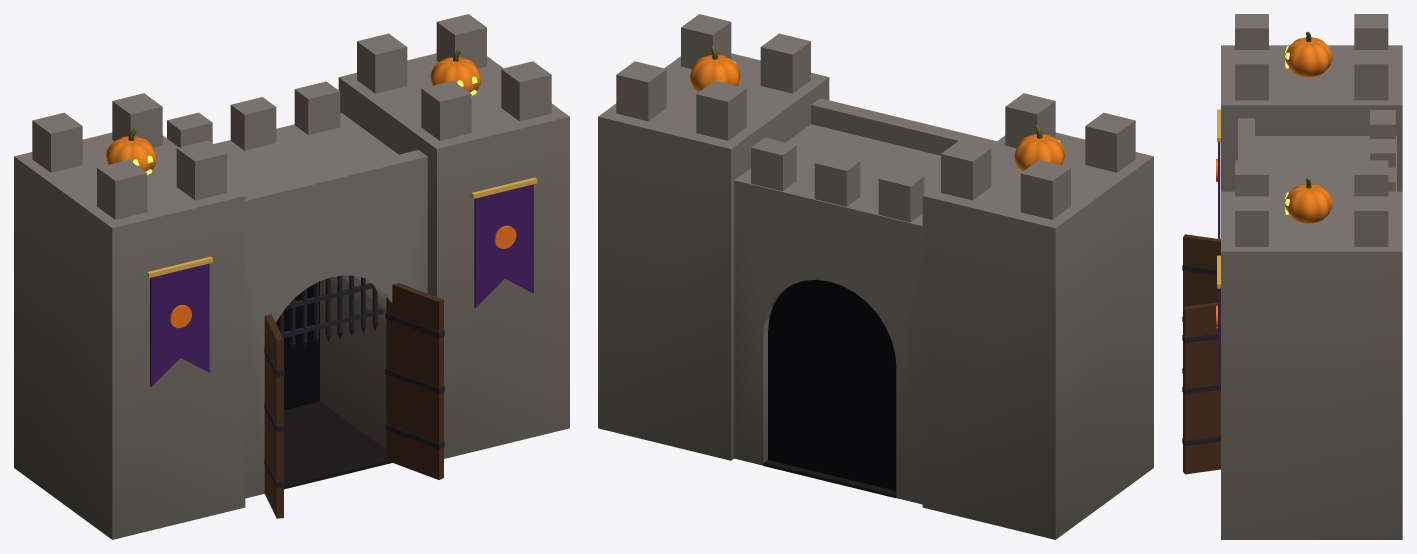
3 renders of one model, left to right at view 1: azimuth 30°, elevation 25°; view 2: azimuth 150°, elevation 25°; view 3: azimuth 270°, elevation 25°, orthographic. The views are drawn at different scales.
Visible parts, largest first — view 1: Gate; view 2: Gate; view 3: Gate.
Boxes of the visible parts, box(x1,y1,x2,y2) form: Gate: box(14, 14, 569, 539); Gate: box(598, 14, 1153, 539); Gate: box(1182, 14, 1402, 539).
Bounding box in the file's own units: 8.6 × 6.47 × 3.88.
